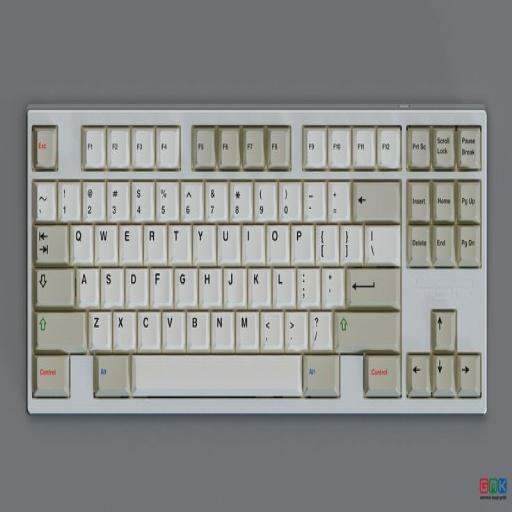keyboard: (26, 105, 488, 412)
